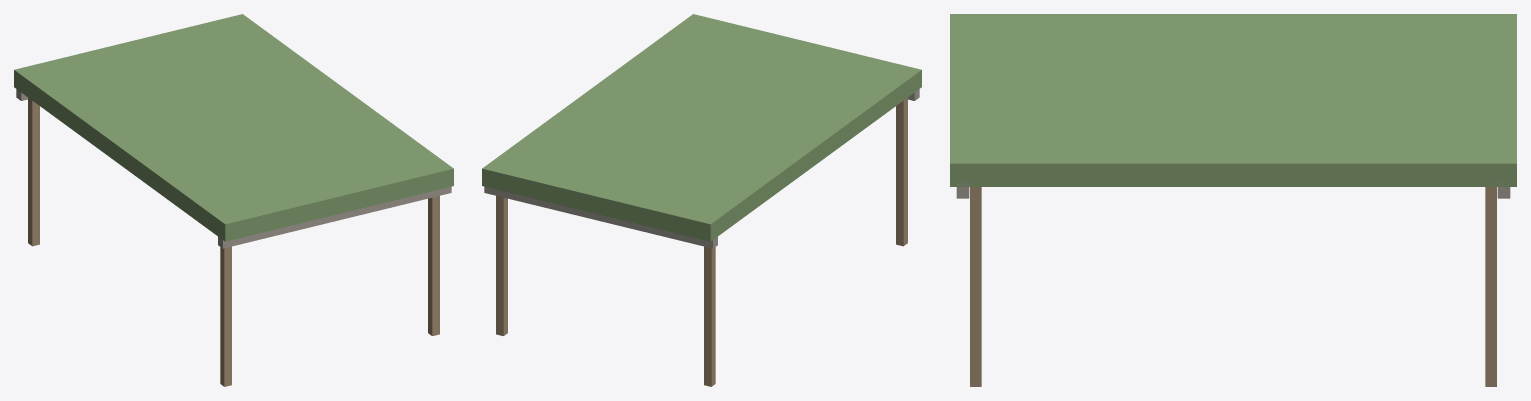
The model's file is MIL_CamoShelter.fbx.
3 renders of one model, left to right at view 1: azimuth 30°, elevation 25°; view 2: azimuth 150°, elevation 25°; view 3: azimuth 270°, elevation 25°, orthographic. The views are drawn at different scales.
Visible parts, largest first — view 1: Canopy, MIL_CamoShelter_ENV_Wood, MIL_CamoShelter_MAT_IslandCliff; view 2: Canopy, MIL_CamoShelter_ENV_Wood, MIL_CamoShelter_MAT_IslandCliff; view 3: Canopy, MIL_CamoShelter_ENV_Wood.
Part boxes in pixels (bbox=[...]): Canopy: bbox=[14, 14, 453, 241]; MIL_CamoShelter_ENV_Wood: bbox=[28, 97, 439, 386]; MIL_CamoShelter_MAT_IslandCliff: bbox=[16, 87, 451, 248]; Canopy: bbox=[482, 14, 921, 241]; MIL_CamoShelter_ENV_Wood: bbox=[496, 97, 907, 386]; MIL_CamoShelter_MAT_IslandCliff: bbox=[484, 89, 919, 248]; Canopy: bbox=[950, 14, 1516, 186]; MIL_CamoShelter_ENV_Wood: bbox=[970, 187, 1496, 386].
Bounding box in the file's own units: 550 × 390 × 880.
